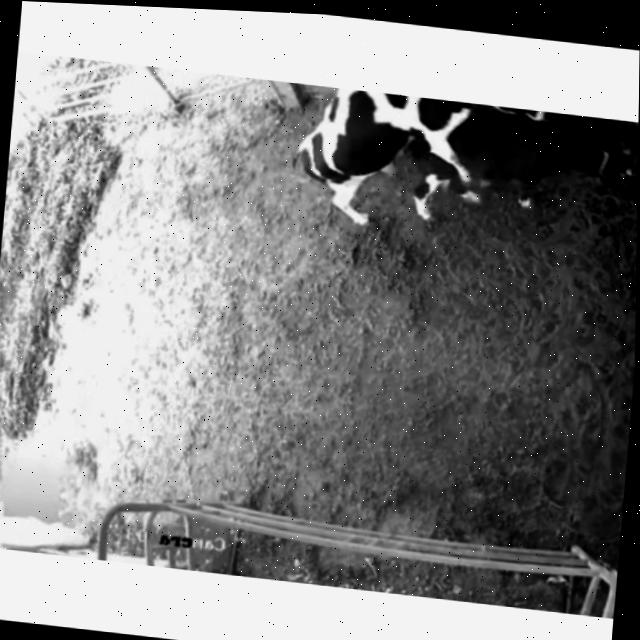ride: (273, 80, 552, 263)
